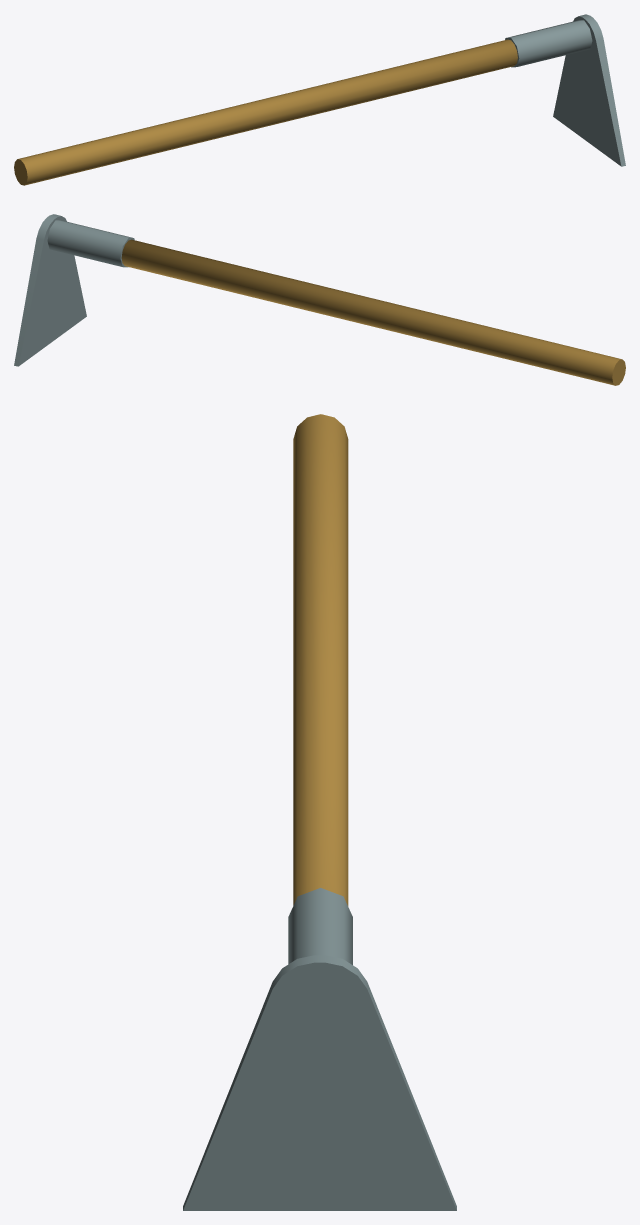
Rendered from Hoe.fbx.
The picture shows the model from 3 angles, top to bottom: view 1: azimuth 30°, elevation 25°; view 2: azimuth 150°, elevation 25°; view 3: azimuth 270°, elevation 25°; orthographic projection. The views are drawn at different scales.
Parts seen in each view (by area): view 1: Hoe; view 2: Hoe; view 3: Hoe.
Boxes of the visible parts, box(x1,y1,x2,y2) form: Hoe: box(14, 14, 625, 185); Hoe: box(14, 214, 625, 385); Hoe: box(183, 414, 456, 1210).
Bounding box in the file's own units: 1.89 × 0.3936 × 0.3936.
